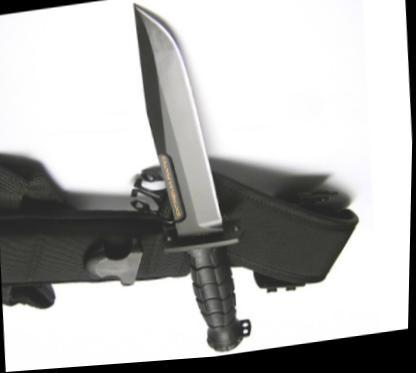knife: (122, 0, 230, 253)
